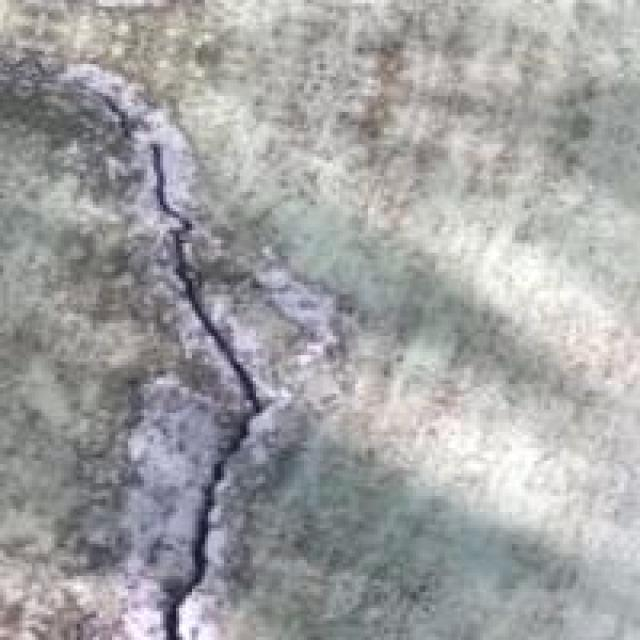crack: (86, 0, 312, 640)
